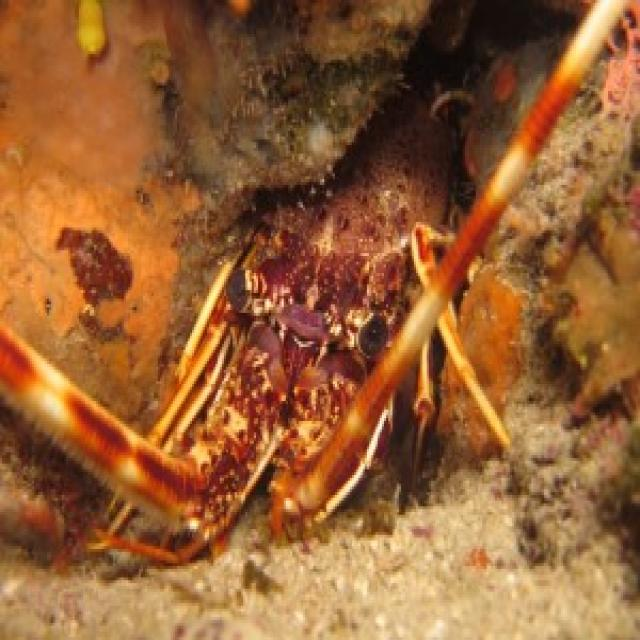lobsters: (13, 24, 523, 572)
